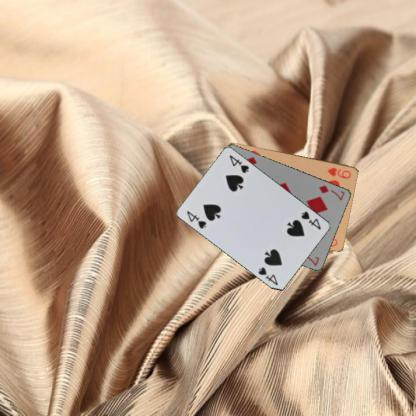4s: (298, 208, 322, 230), (184, 208, 208, 230)
7d: (316, 183, 346, 202)
9h: (325, 164, 352, 180)
